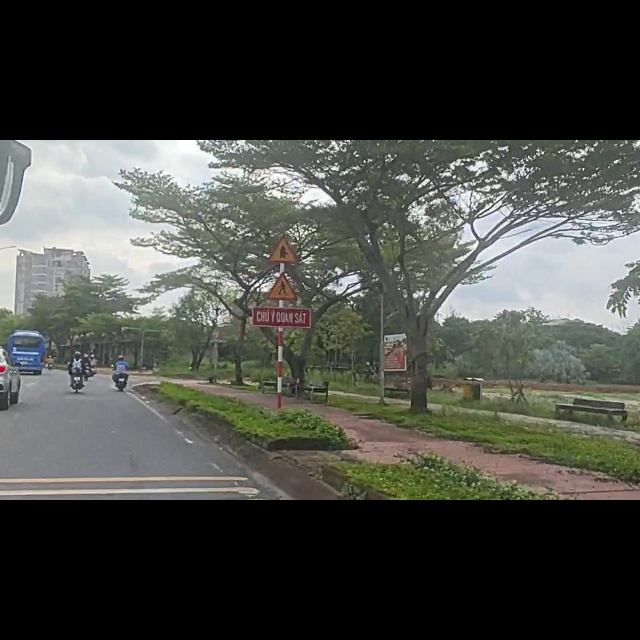bien_nguy_hiem: (263, 231, 305, 289), (268, 167, 305, 222)
